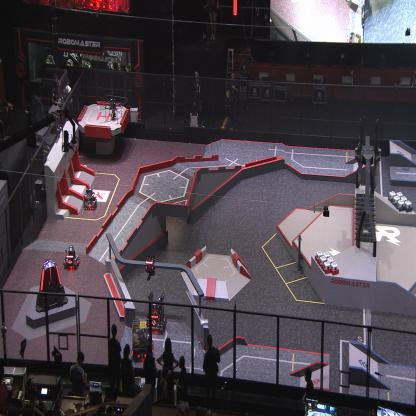car: (130, 318, 154, 364), (147, 291, 168, 333), (63, 242, 80, 268), (82, 186, 98, 210)
